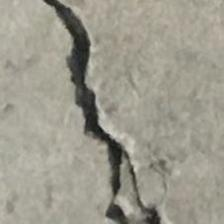Crack: (48, 12, 194, 224)
